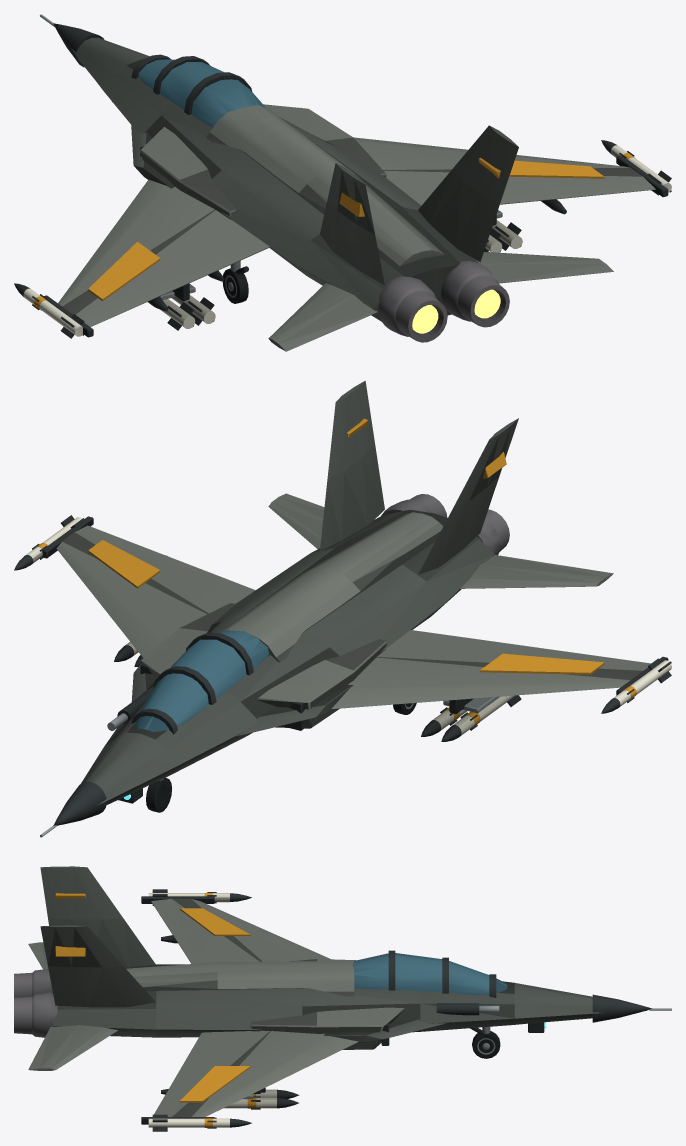
File: Fighter.glb
3 views of the same model, one above another, from view 1: azimuth 30°, elevation 25°; view 2: azimuth 150°, elevation 25°; view 3: azimuth 270°, elevation 25° (orthographic). The views are drawn at different scales.
Parts seen in each view (by area): view 1: export_bastion_Fighter_Fuselage; view 2: export_bastion_Fighter_Fuselage; view 3: export_bastion_Fighter_Fuselage.
Part boxes in pixels (box(x1,y1,x2,y2)): export_bastion_Fighter_Fuselage: box(14, 14, 671, 351); export_bastion_Fighter_Fuselage: box(14, 380, 671, 837); export_bastion_Fighter_Fuselage: box(14, 866, 671, 1131).
Bounding box in the file's own units: 5.8 × 1.88 × 6.98.
